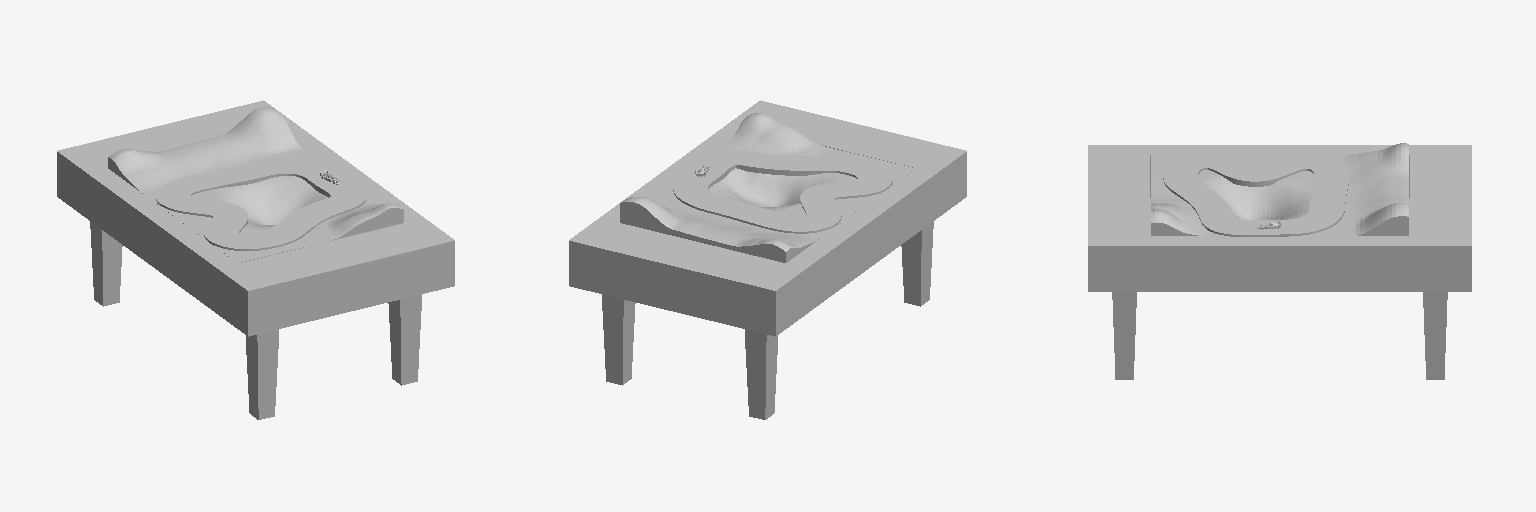
Rendered from NewestTisch24.obj.
The picture shows the model from 3 angles: view 1: azimuth 30°, elevation 25°; view 2: azimuth 150°, elevation 25°; view 3: azimuth 270°, elevation 25°; orthographic projection.
Visible parts, largest first — view 1: Tischplatte_wood_table_001, Landschaft_aerial_grass_rock, off, Bein1_wood_table_001, Bein4_wood_table_001.003, Bein3_wood_table_001.002; view 2: Tischplatte_wood_table_001, Landschaft_aerial_grass_rock, off, Bein2_wood_table_001.001, Bein3_wood_table_001.002, Bein4_wood_table_001.003; view 3: Tischplatte_wood_table_001, Landschaft_aerial_grass_rock, off, Bein1_wood_table_001, Bein2_wood_table_001.001.
Part boxes in pixels (x1,y1,x2,y2): Tischplatte_wood_table_001: (57,100,454,336); Landschaft_aerial_grass_rock: (108,107,403,262); off: (156,159,365,250); Bein1_wood_table_001: (388,294,421,385); Bein4_wood_table_001.003: (246,329,278,419); Bein3_wood_table_001.002: (90,221,122,306); Tischplatte_wood_table_001: (569,100,966,336); Landschaft_aerial_grass_rock: (620,113,915,262); off: (673,150,892,233); Bein2_wood_table_001.001: (602,294,635,385); Bein3_wood_table_001.002: (745,329,777,419); Bein4_wood_table_001.003: (901,221,933,306); Tischplatte_wood_table_001: (1088,145,1471,291); Landschaft_aerial_grass_rock: (1151,143,1408,235); off: (1163,153,1348,236); Bein1_wood_table_001: (1112,292,1136,379); Bein2_wood_table_001.001: (1423,292,1447,379).
Size of the model in its own units: 5 by 3.91 by 8.